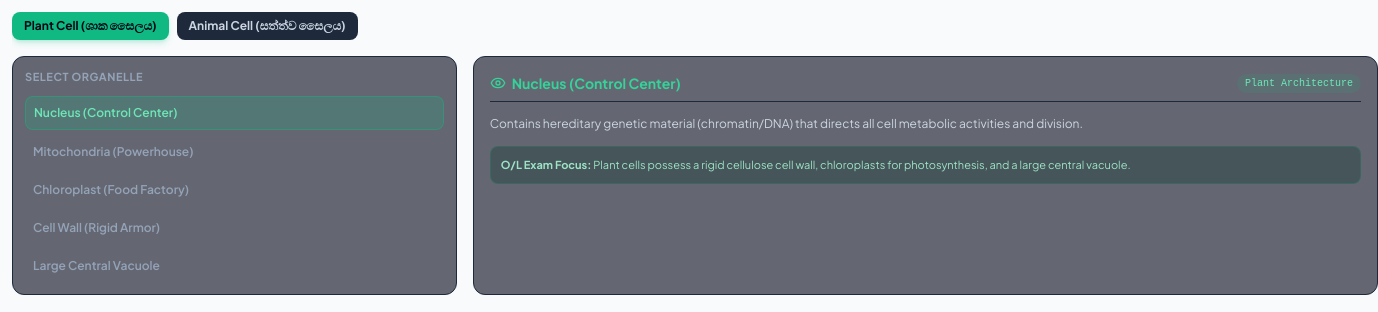
Test: CellExplorer › a selected plant-only organelle falls back to nucleus on an animal cell
Click the button with test id "organelle-chloroplast": (111, 189) [25, 174, 444, 206]
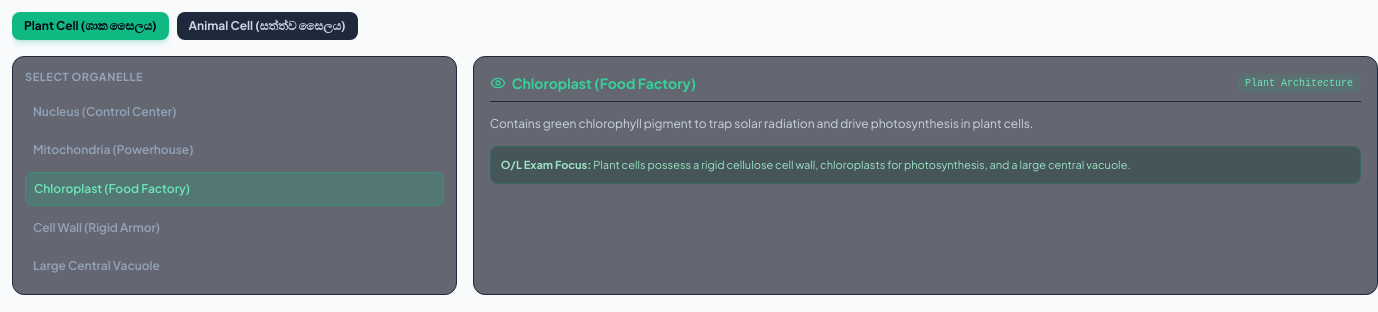
Expected: the element with test id "organelle-inspector" shows "Chloroplast", [512, 74, 696, 92]
Click the button "Animal Cell (සත්ත්ව සෛලය)": (267, 26) [177, 12, 358, 40]
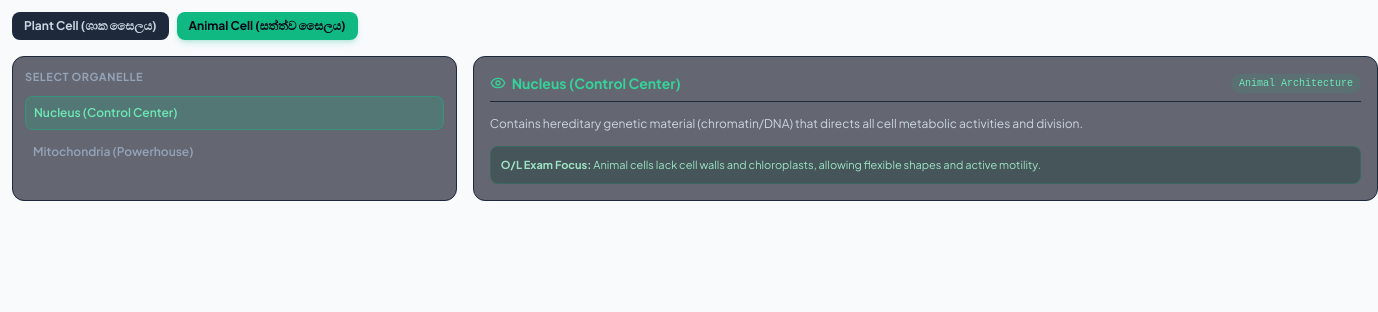
Result: the element with test id "organelle-inspector" shows "Nucleus" at [512, 74, 681, 92]
Result: the element with test id "organelle-inspector" no longer shows "Chloroplast"
